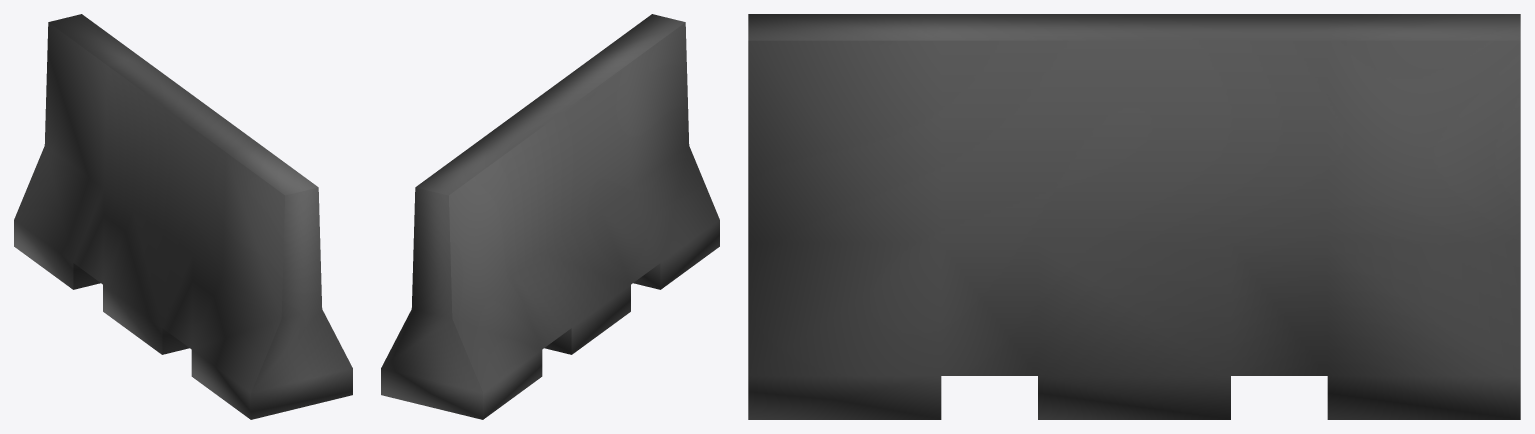
File: concrete_barrier1.fbx
3 views of the same model, side by side, from view 1: azimuth 30°, elevation 25°; view 2: azimuth 150°, elevation 25°; view 3: azimuth 270°, elevation 25° (orthographic). The views are drawn at different scales.
Parts seen in each view (by area): view 1: concrete_barrier1; view 2: concrete_barrier1; view 3: concrete_barrier1.
Boxes of the visible parts, box(x1,y1,x2,y2) form: concrete_barrier1: box(14, 14, 352, 419); concrete_barrier1: box(381, 14, 719, 419); concrete_barrier1: box(748, 14, 1520, 419).
Bounding box in the file's own units: 99.28 × 201 × 400.
